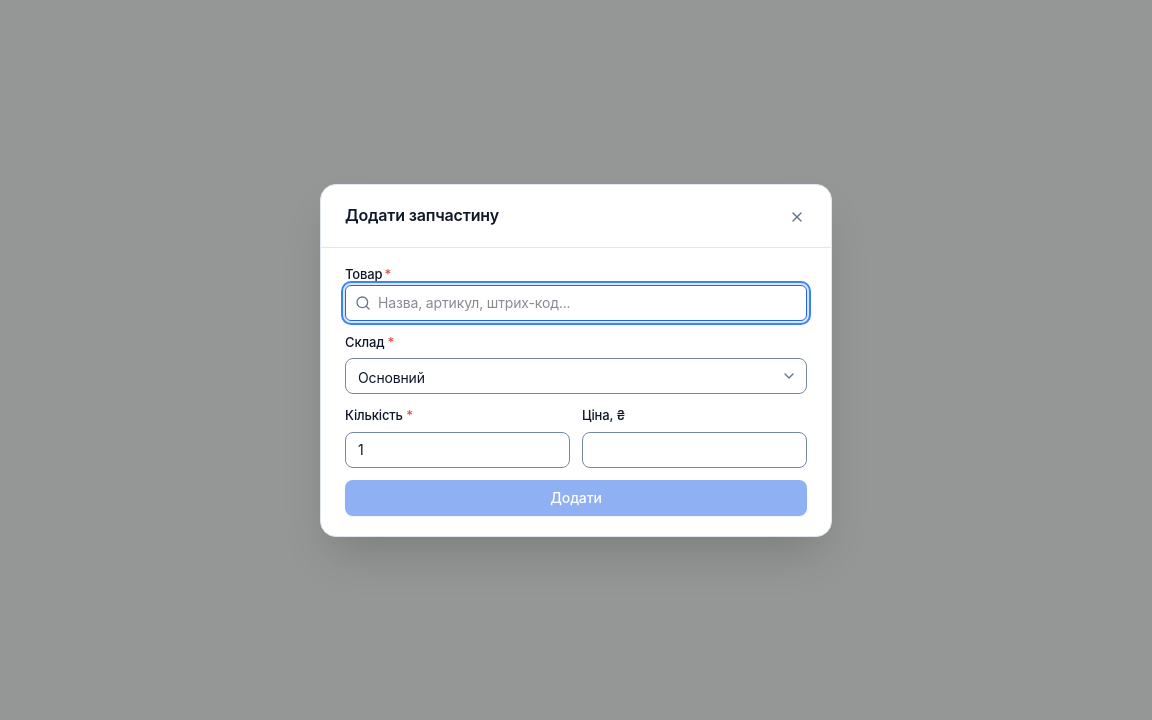
Test: WorkOrderAddPartModal — склад запчастини (BR-WO-029) › вільна лише на одному (неосновному) → він
Type "Фільтр л" into the dropdown with placeholder "Назва, артикул, штрих-код...". click: [576, 302]
box: [345,284,807,320]
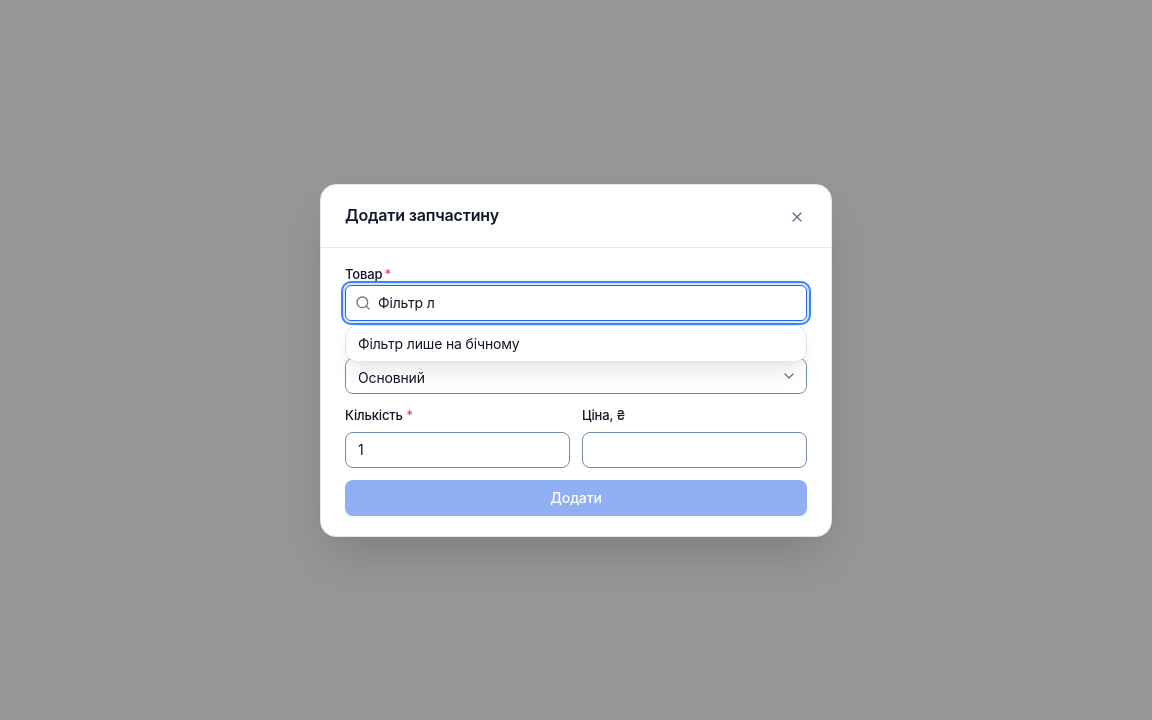
Click the option "Фільтр лише на бічному". click: [439, 343]
box: [358,334,519,352]
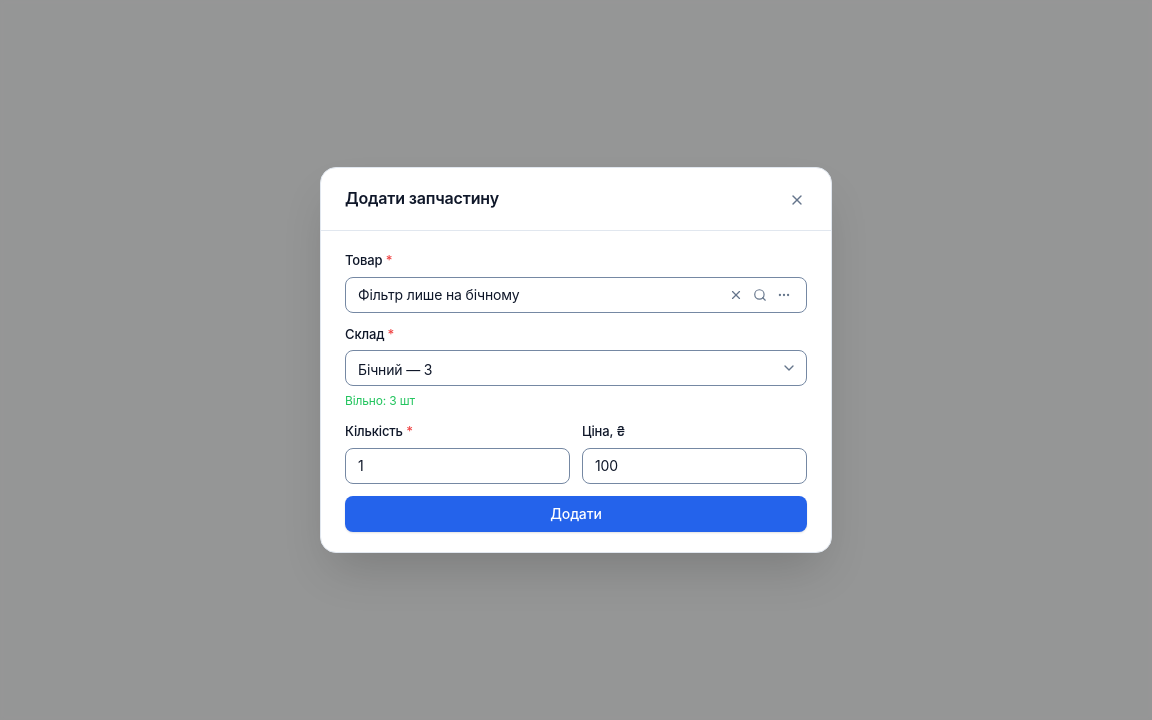
Now the dropdown named "Склад" shows "Бічний — 3", box [345,350,807,386]
